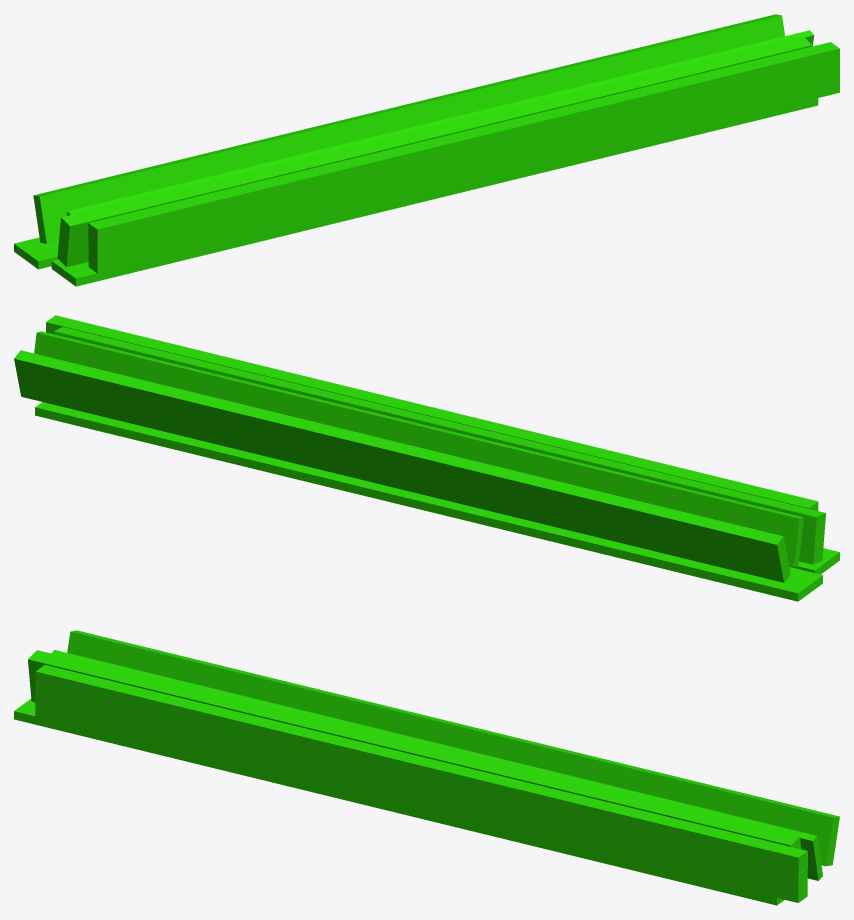
Rendered from Factory_Boards_Grp_02.fbx.
3 renders of one model, top to bottom at view 1: azimuth 30°, elevation 25°; view 2: azimuth 150°, elevation 25°; view 3: azimuth 330°, elevation 25°, orthographic. The views are drawn at different scales.
Parts seen in each view (by area): view 1: Factory_Boards_Grp_02; view 2: Factory_Boards_Grp_02; view 3: Factory_Boards_Grp_02.
Part boxes in pixels (x1,y1,x2,y2): Factory_Boards_Grp_02: (14,14,839,286); Factory_Boards_Grp_02: (14,315,839,601); Factory_Boards_Grp_02: (14,630,839,905).
Bounding box in the file's own units: 531 × 35.84 × 62.21.
